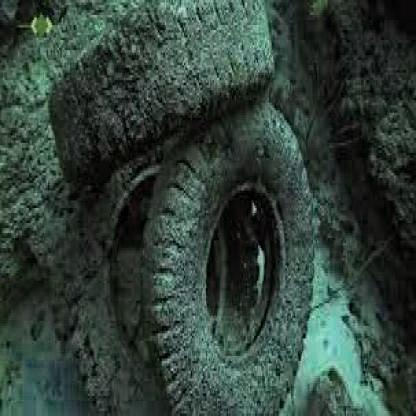tire: (125, 85, 318, 414), (60, 143, 187, 416), (56, 2, 264, 143)
